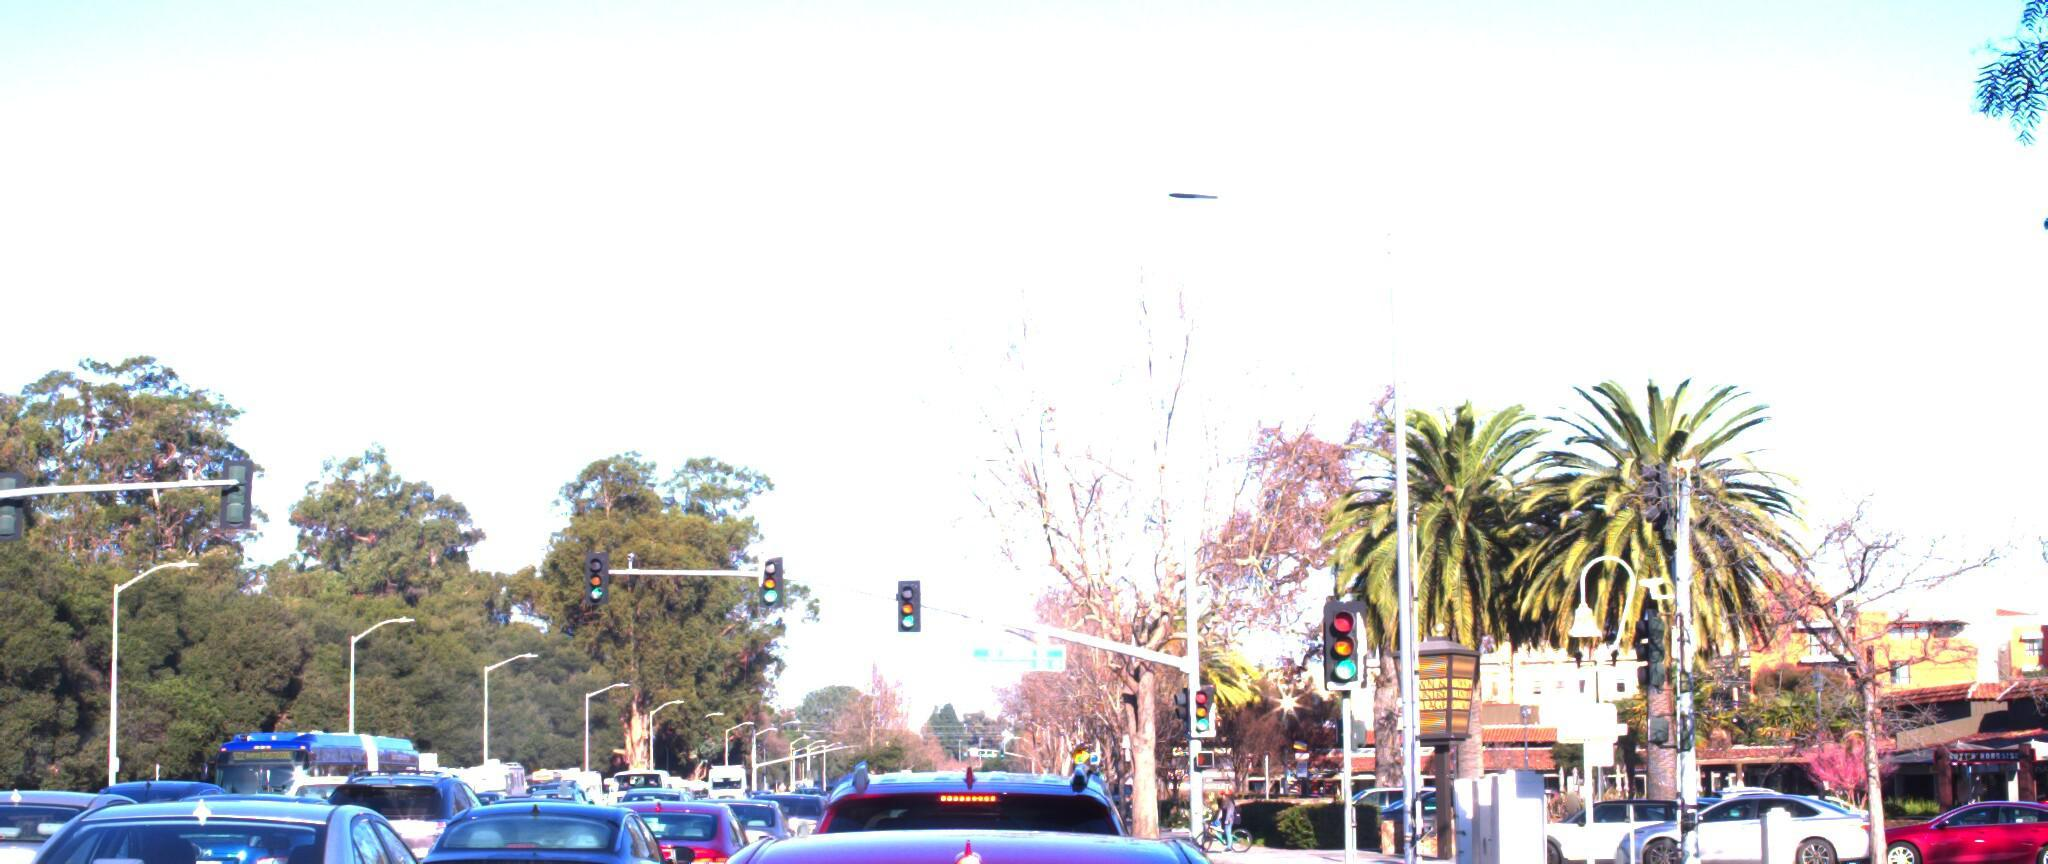bicycle: (1196, 760, 1259, 831)
car: (485, 784, 1395, 864), (768, 733, 1185, 864), (0, 782, 502, 864), (393, 750, 701, 864), (0, 737, 238, 864), (135, 765, 428, 864), (1599, 764, 1885, 852), (593, 764, 797, 864), (306, 774, 505, 864), (253, 737, 408, 850), (1840, 773, 2048, 855), (650, 767, 814, 864), (760, 767, 862, 854), (0, 775, 88, 864), (2000, 769, 2048, 854)
